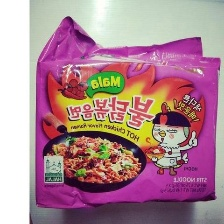snack: (29, 10, 224, 213)
